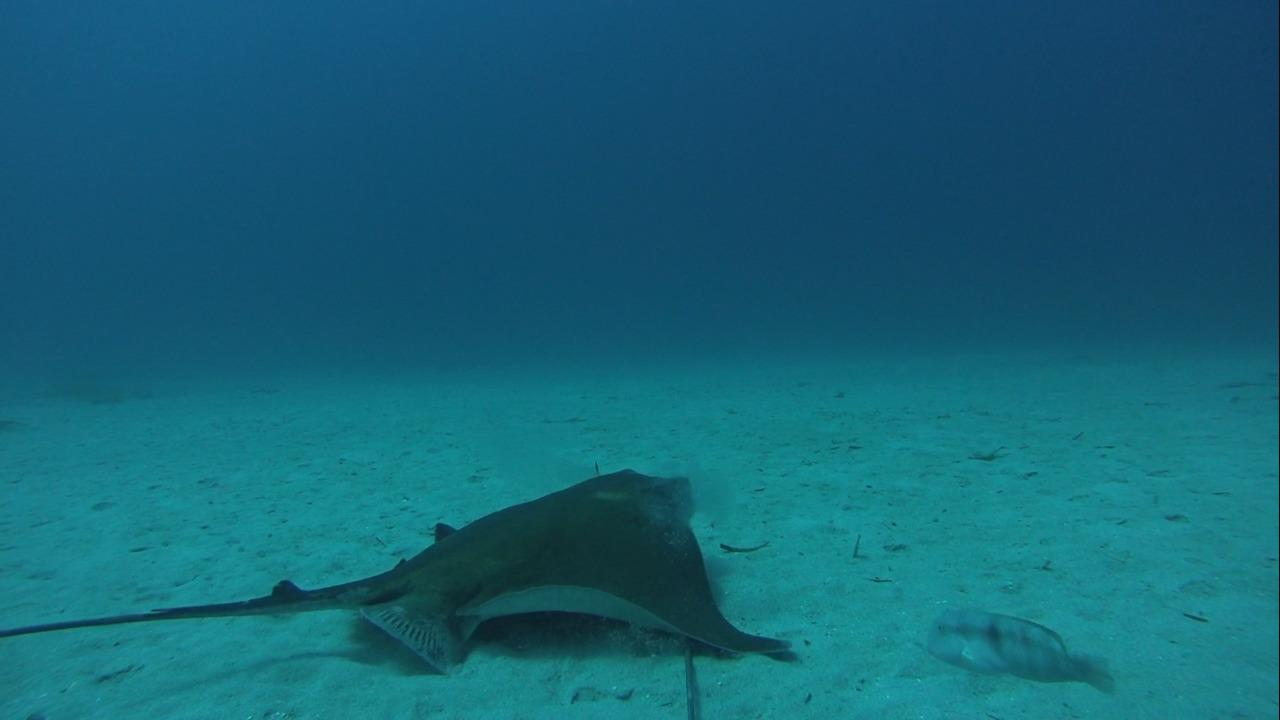myliobatis: (6, 467, 799, 675)
raor: (914, 604, 1118, 692)
